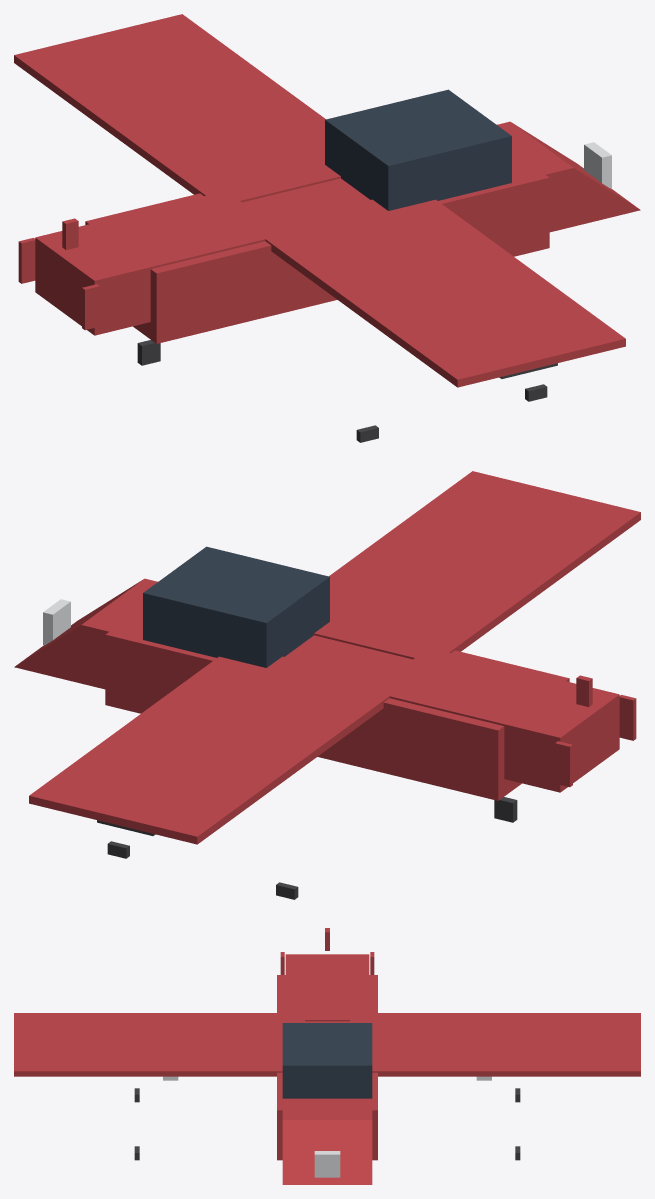
Rendered from SM_Veh_PropPlane.fbx.
3 renders of one model, top to bottom at view 1: azimuth 30°, elevation 25°; view 2: azimuth 150°, elevation 25°; view 3: azimuth 270°, elevation 25°, orthographic. The views are drawn at different scales.
Parts seen in each view (by area): view 1: SM_Veh_PropPlane; view 2: SM_Veh_PropPlane; view 3: SM_Veh_PropPlane.
Boxes of the visible parts, x1,y1,x2,y2 form: SM_Veh_PropPlane: (14,14,640,442); SM_Veh_PropPlane: (14,471,640,899); SM_Veh_PropPlane: (14,928,640,1184).
Bounding box in the file's own units: 894 × 1232 × 258.
